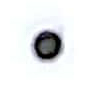cancer: (15, 13, 78, 75)
